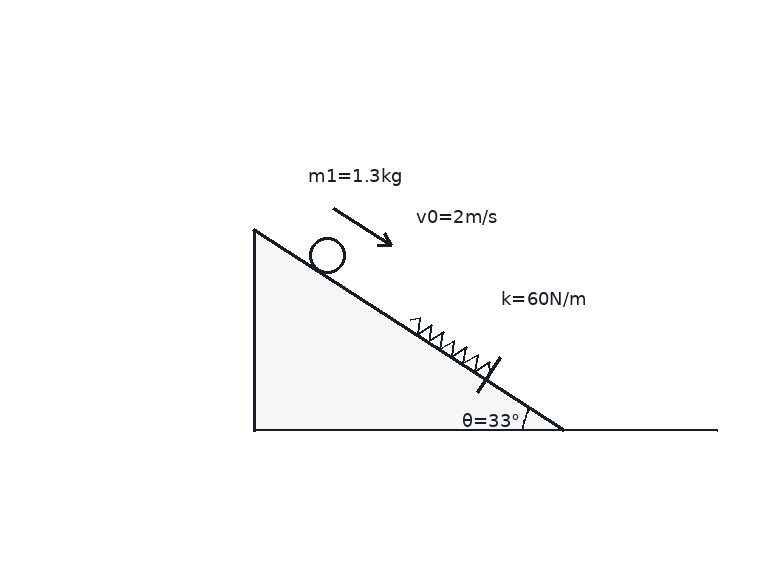ball: (307, 235, 347, 275)
ramp: (252, 227, 565, 432)
spring: (408, 316, 493, 374)
